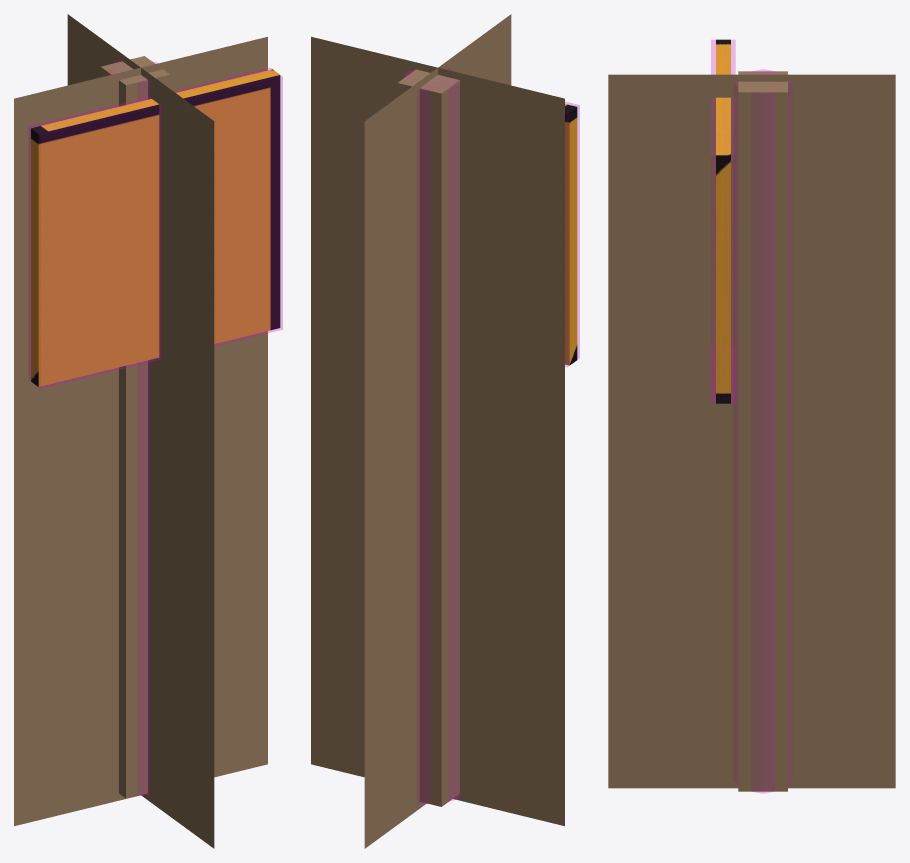
Rendered from arrow_slight_right.dae.
3 renders of one model, left to right at view 1: azimuth 30°, elevation 25°; view 2: azimuth 150°, elevation 25°; view 3: azimuth 270°, elevation 25°, orthographic.
Visible parts, largest first — view 1: arrow_slight_right_a50, arrow_slight_right_a800, Colmesh_sign-1, Colmesh_post-1, arrow_slight_right_a200; view 2: arrow_slight_right_a50, arrow_slight_right_a800, Colmesh_post-1, arrow_slight_right_a200, Colmesh_sign-1; view 3: arrow_slight_right_a50, arrow_slight_right_a800, Colmesh_post-1, Colmesh_sign-1.
Boxes of the visible parts, <box> form: arrow_slight_right_a50: <box>14,14,267,848</box>; arrow_slight_right_a800: <box>31,56,280,798</box>; Colmesh_sign-1: <box>28,68,282,388</box>; Colmesh_post-1: <box>108,60,157,795</box>; arrow_slight_right_a200: <box>119,61,169,796</box>; arrow_slight_right_a50: <box>311,14,564,848</box>; arrow_slight_right_a800: <box>397,69,577,806</box>; Colmesh_post-1: <box>405,68,459,803</box>; arrow_slight_right_a200: <box>413,71,459,805</box>; Colmesh_sign-1: <box>565,102,579,366</box>; arrow_slight_right_a50: <box>608,74,895,788</box>; arrow_slight_right_a800: <box>716,39,787,791</box>; Colmesh_post-1: <box>734,69,792,793</box>; Colmesh_sign-1: <box>711,40,735,403</box>.
Bounding box in the file's own units: 0.5775 × 0.5775 × 1.58.
3 materials, 1 textured.
